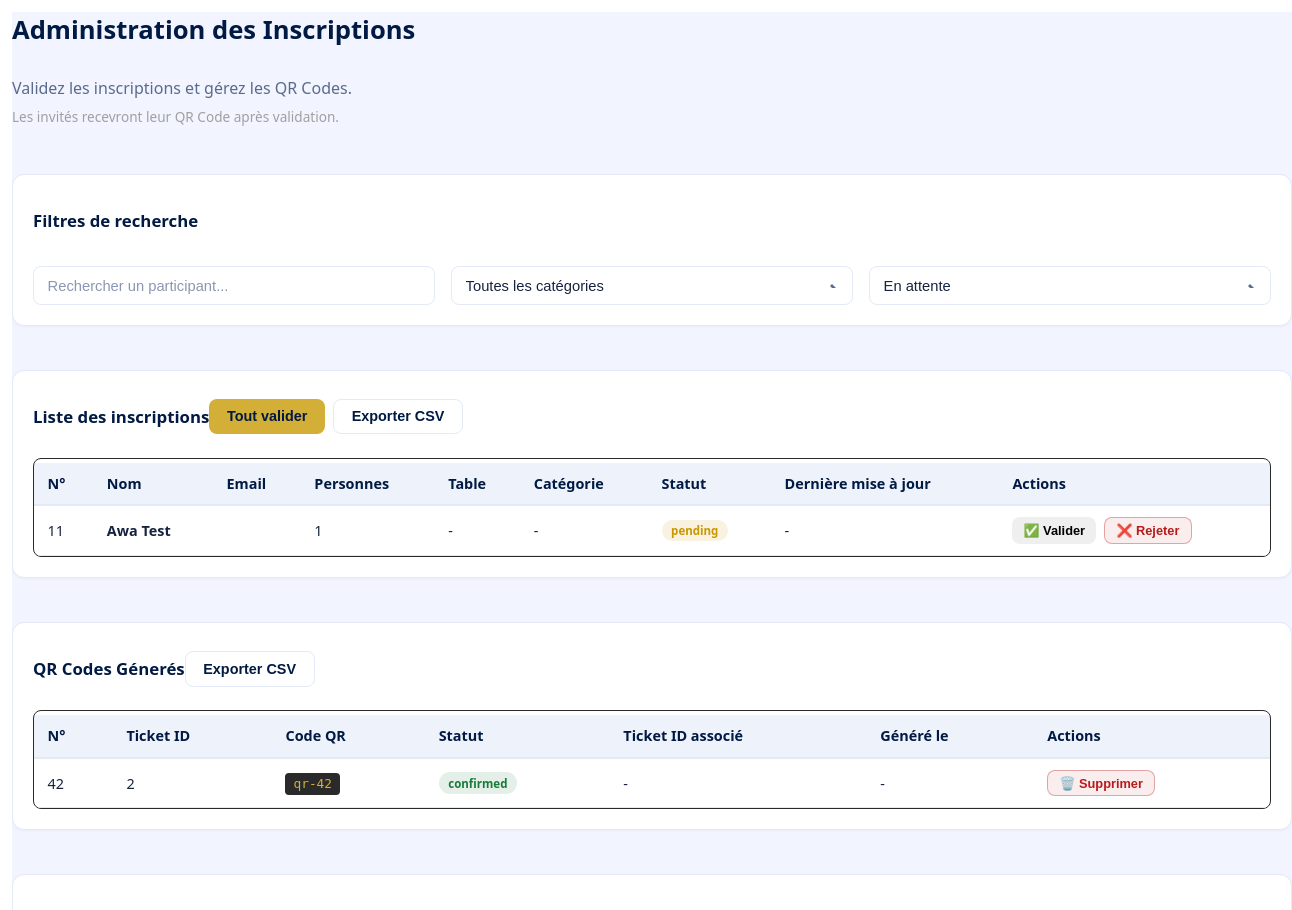
Test: deletes a QR after confirmation via Supabase, not localhost
Click the button "🗑️ Supprimer" at (1101, 783), box [1047,770,1155,796]
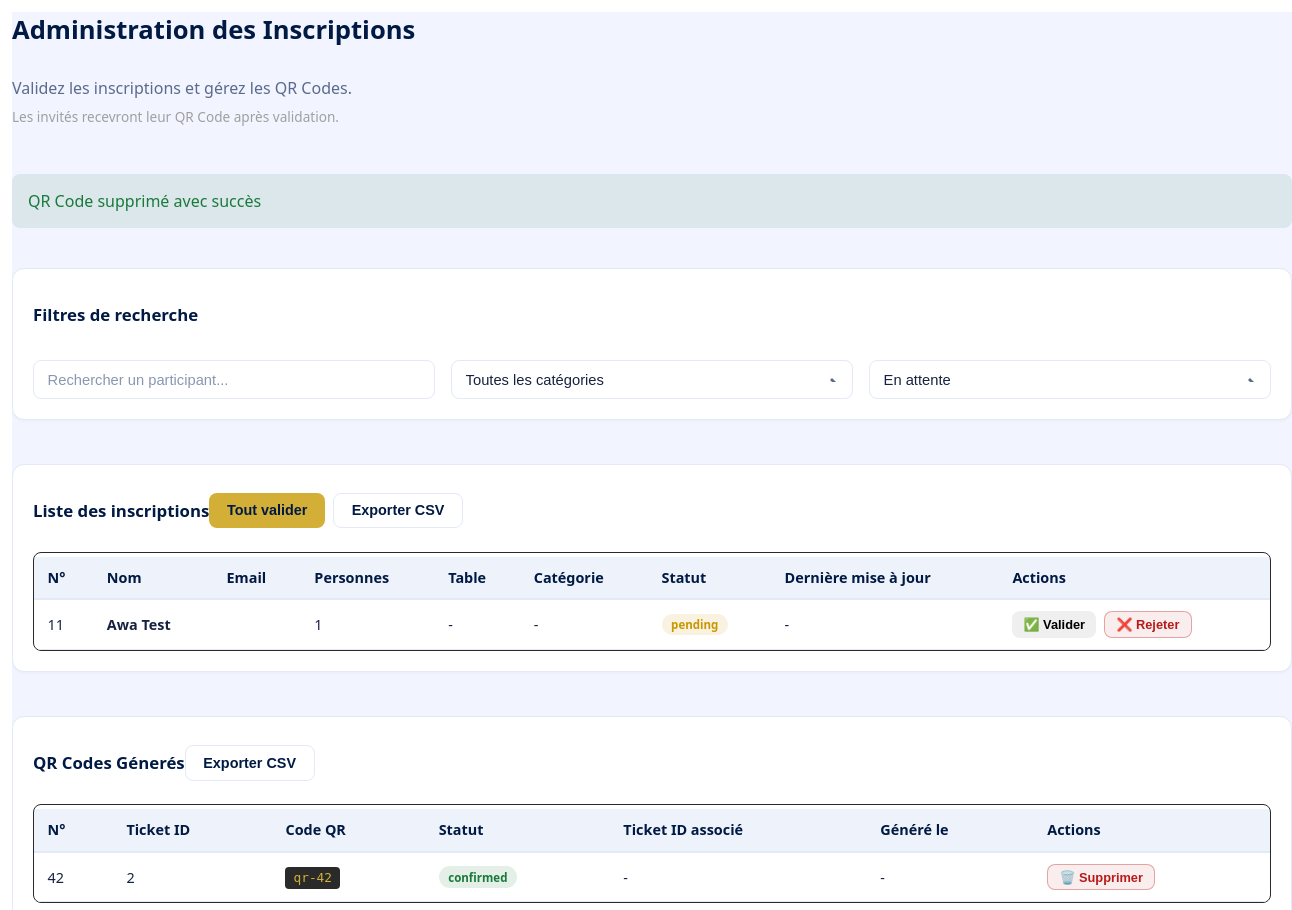
Check: the text "QR Code supprimé avec succès" is shown, box [12,174,1291,228]
